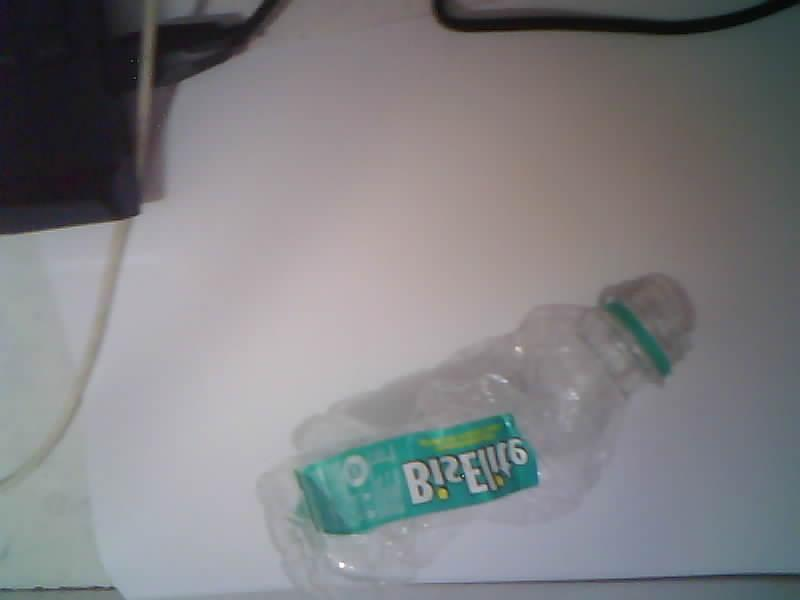non-biodegradable: (258, 275, 692, 595)
